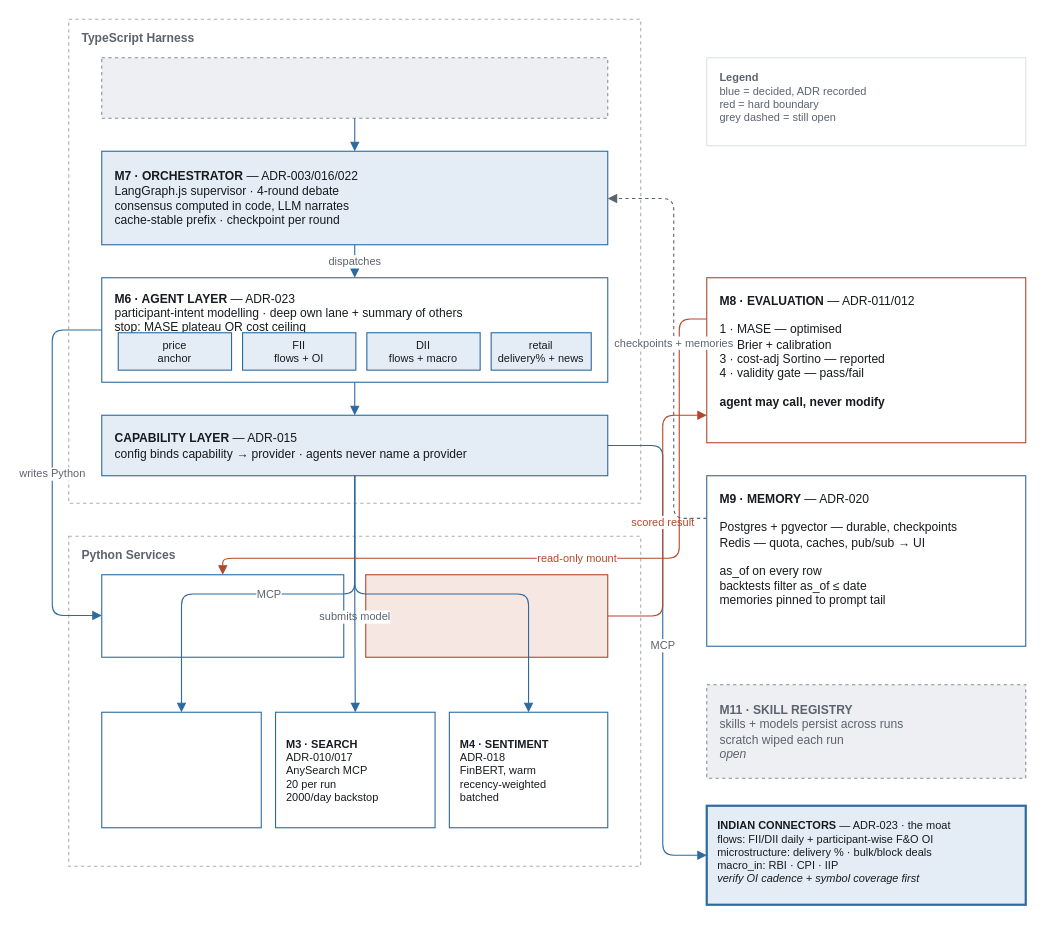
Image size: 1045x925. Some labels were removed from this diagram. Here are the shapes that lost their labels. From the top down, the centre of each, then its label:
At [354,87]: "M10 · INTERFACE CLI · API · React on Vercel open".
At [222,615]: "M5 · SANDBOX — explore warm per run · stateful PyPI allowed".
At [486,615]: "M5 · SANDBOX — validate fresh clean image no network".
At [181,769]: "M1 · MARKET DATA ADR-013 yfinance plugins.yaml cache · point-in-time".
